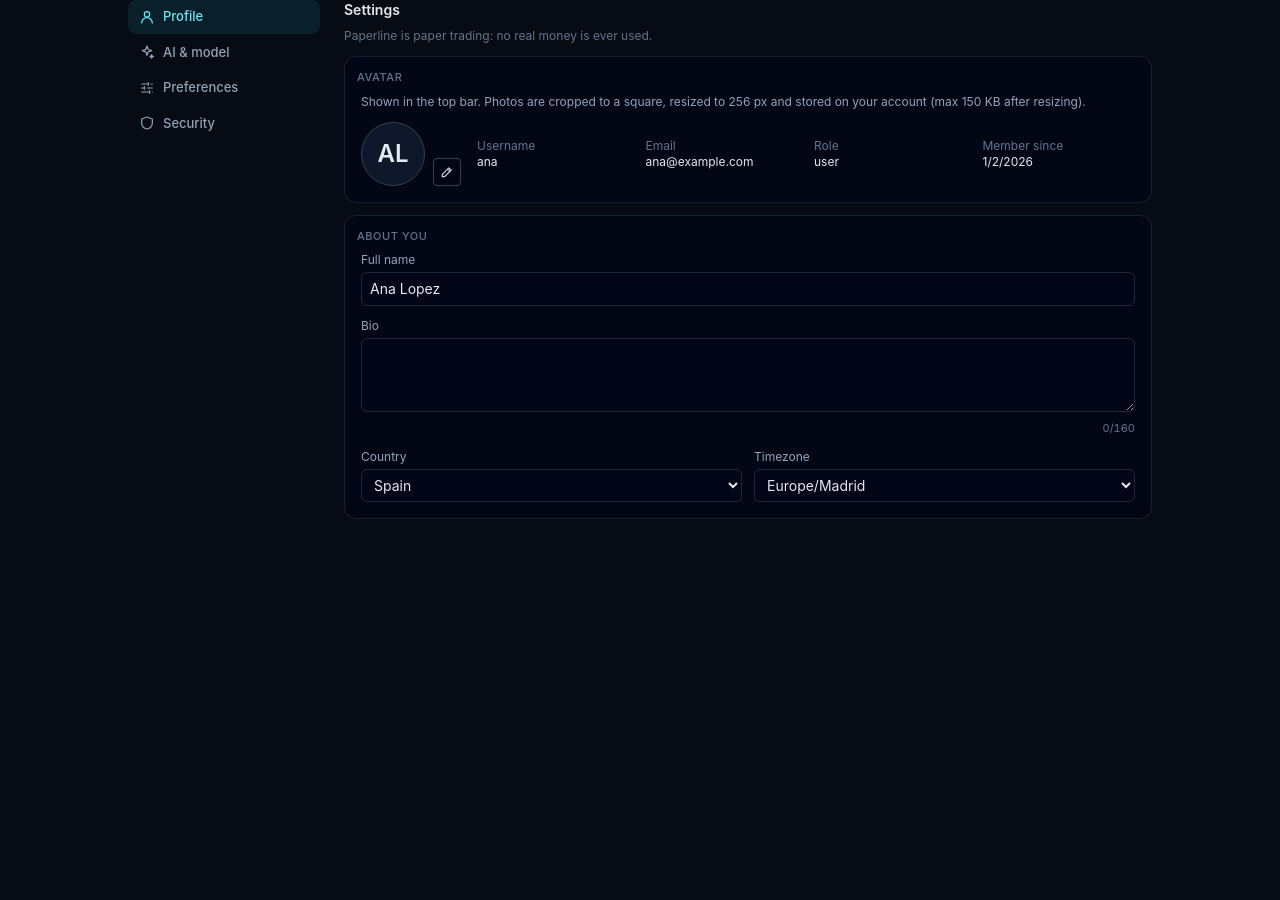
Test: avatar: emoji grid is hidden by default and opens only after Edit photo > Choose emoji
Click the button named "Edit photo" at x=447, y=172, box [433,158,461,186]
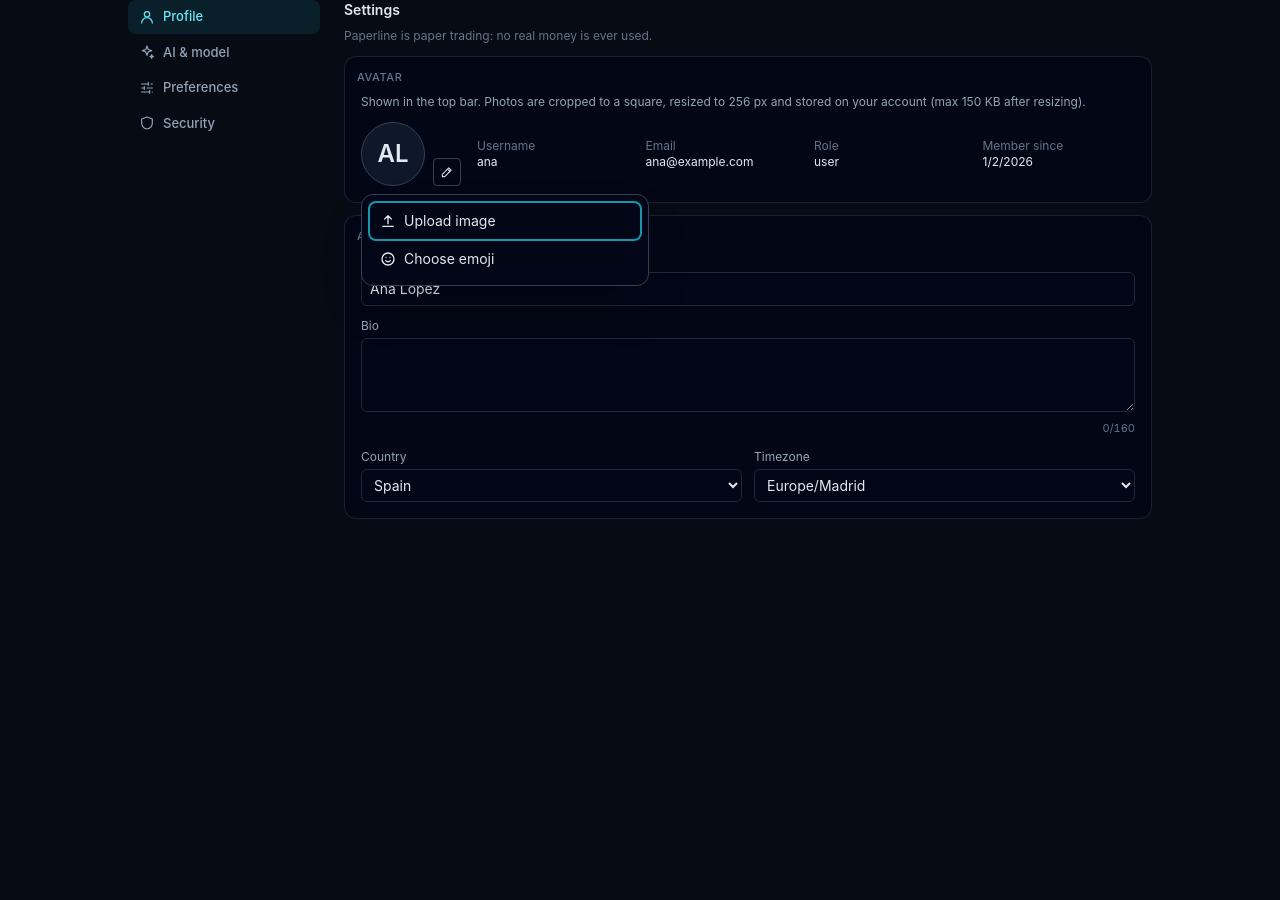
Click the button "Choose emoji" at x=449, y=258, box [370,240,640,276]
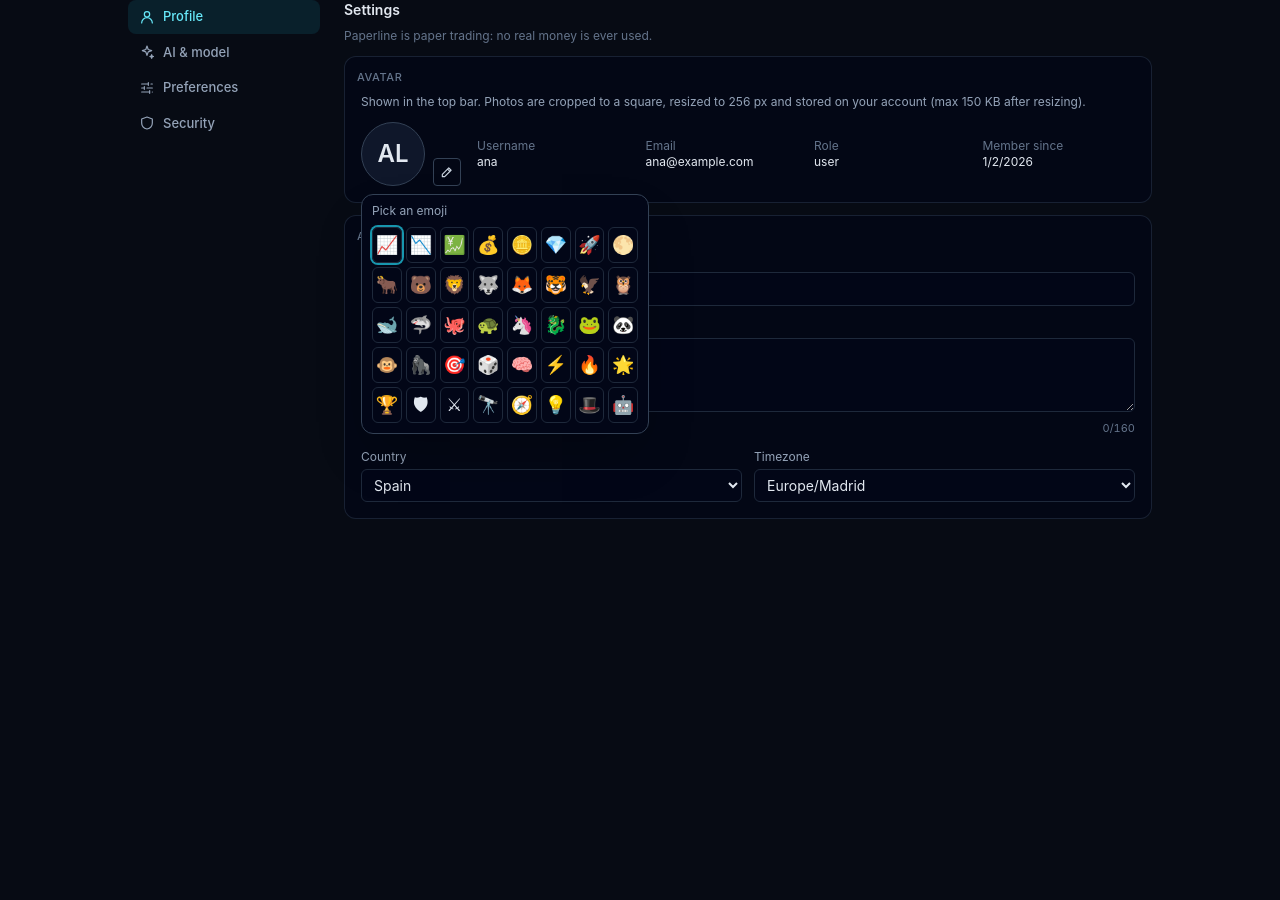
Expected: the element showing "📈 📉 💹 💰 🪙 💎 🚀 🌕 🐂 🐻 🦁 🐺 🦊 🐯 🦅 🦉 🐋 🦈 🐙 🐢 🦄 🐉 🐸 🐼 🐵 🦍 🎯" is shown, [370,224,640,424]
